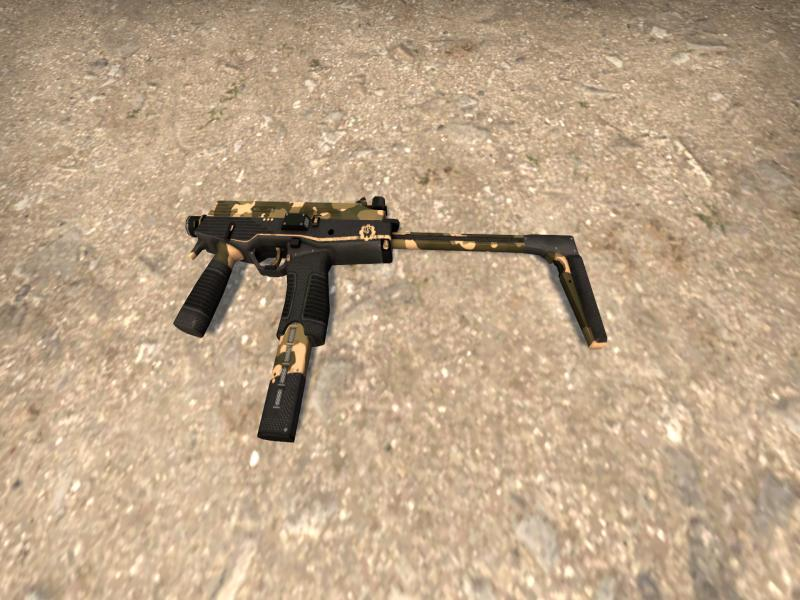MP9: (175, 195, 608, 441)
